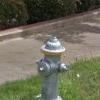Hydrant: (26, 29, 80, 100)
